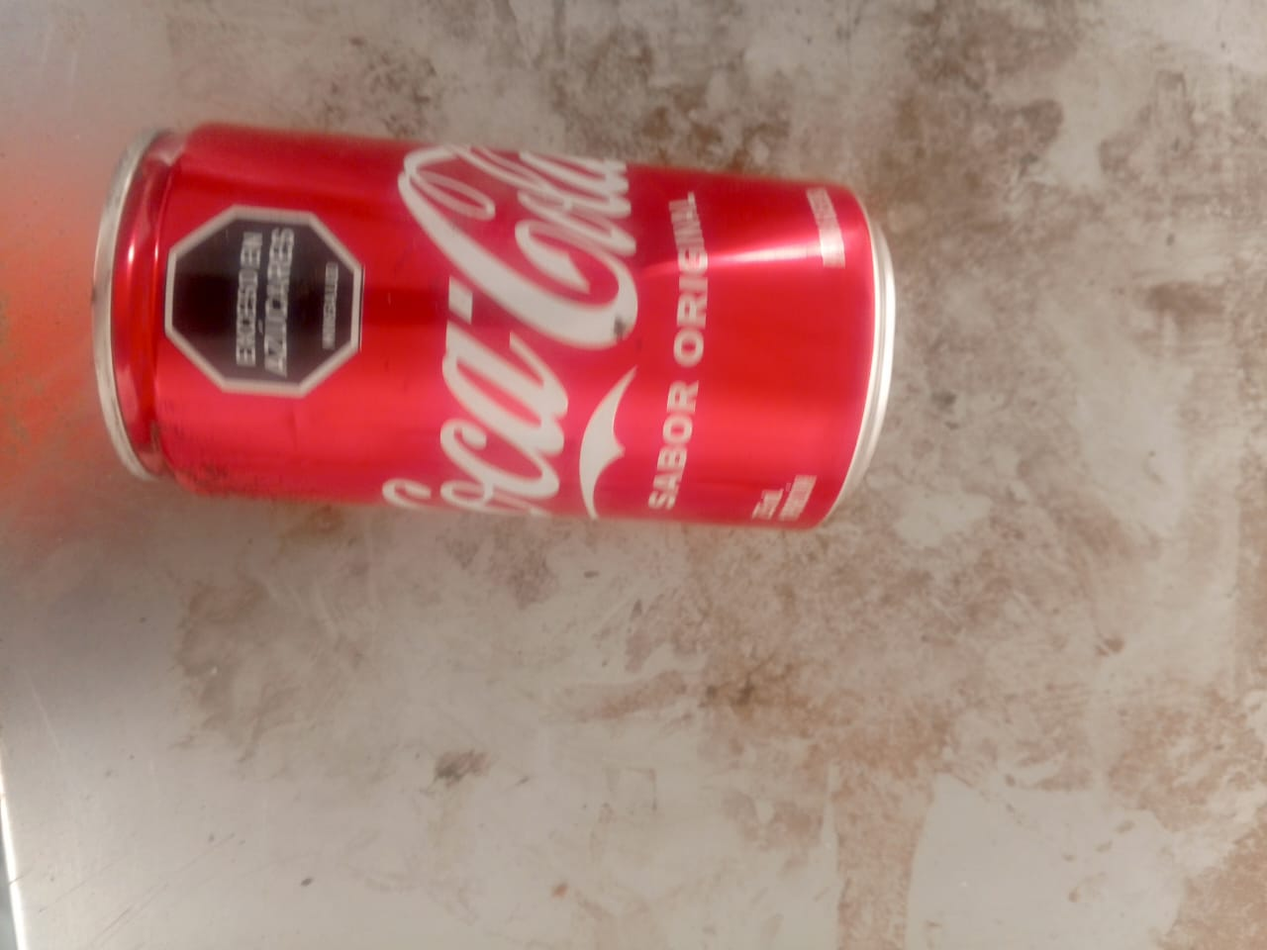Metal: (93, 125, 895, 531)
